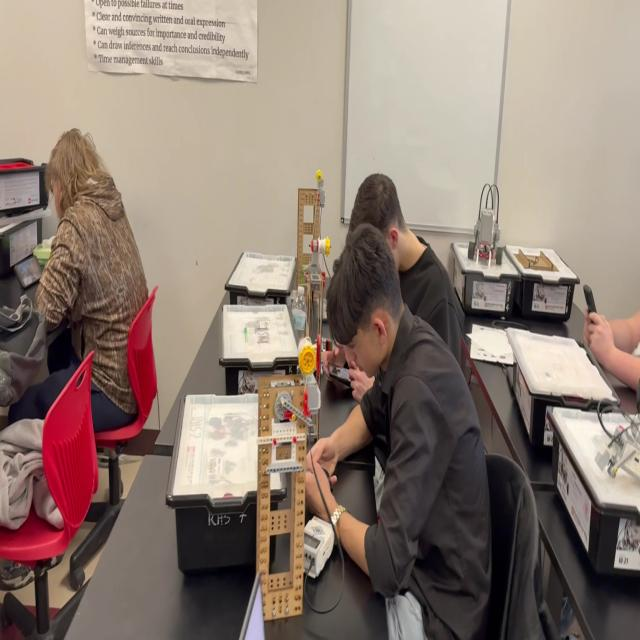pen: (291, 452, 333, 493), (13, 254, 44, 290), (583, 283, 601, 337), (328, 362, 357, 389)
